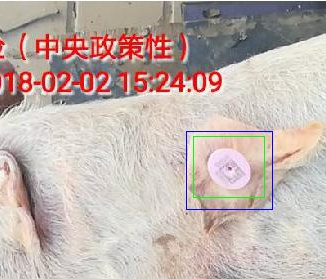text: (193, 136, 264, 197)
